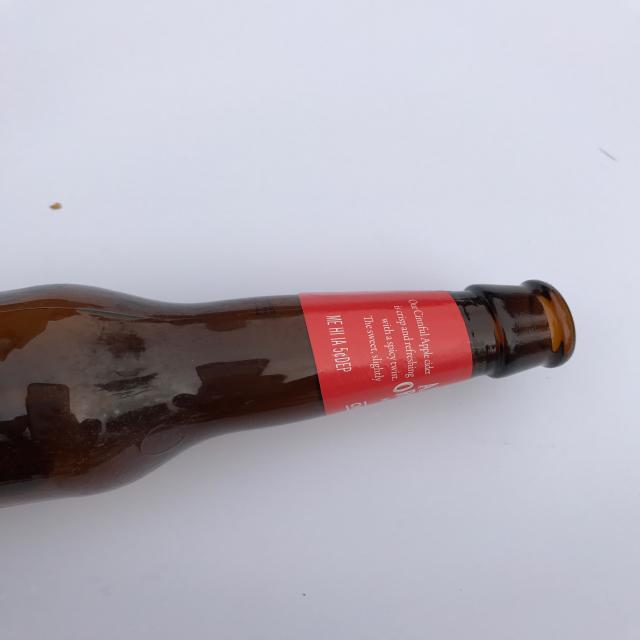glass: (0, 280, 578, 510)
